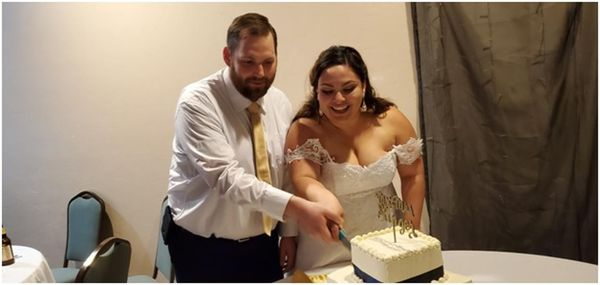curry: (243, 234, 596, 282)
pasta: (61, 191, 114, 268), (49, 236, 132, 283)
salad: (246, 102, 272, 184), (0, 244, 55, 282)
sushi: (349, 224, 444, 283)
